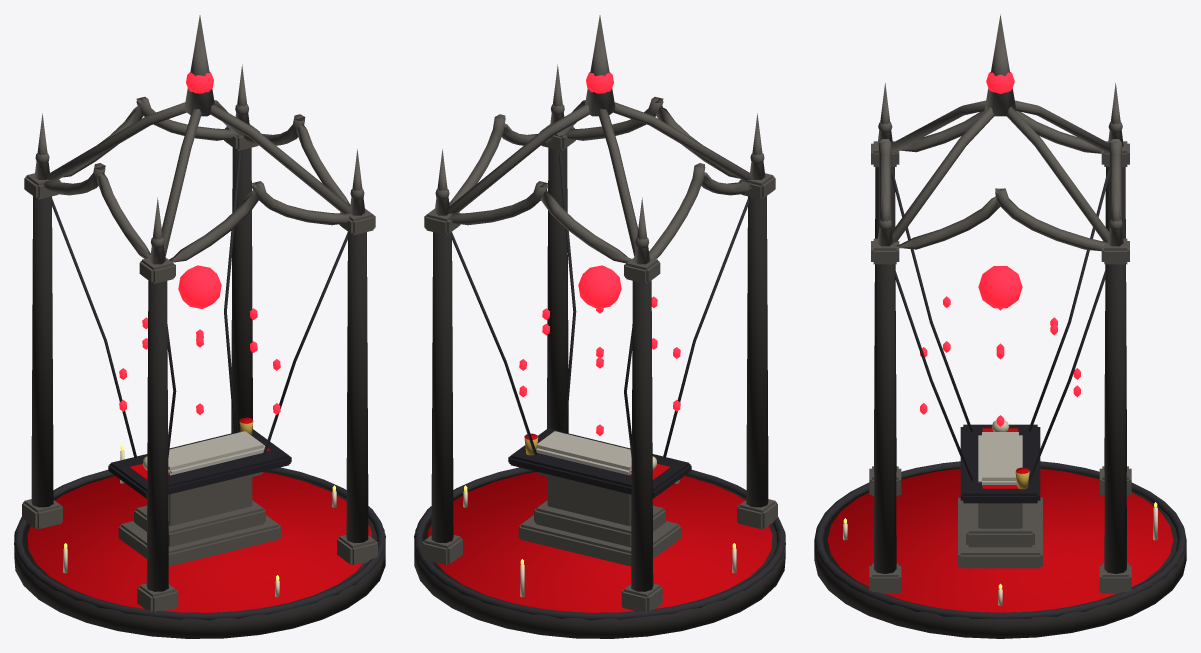
File: gothic-altar.glb
The picture shows the model from 3 angles, left to right: view 1: azimuth 30°, elevation 25°; view 2: azimuth 150°, elevation 25°; view 3: azimuth 270°, elevation 25°; orthographic projection.
Parts seen in each view (by area): view 1: Model Mesh; view 2: Model Mesh; view 3: Model Mesh.
Part boxes in pixels (<box>): Model Mesh: <box>14,15,385,638</box>; Model Mesh: <box>414,15,785,638</box>; Model Mesh: <box>814,14,1186,638</box>.
Size of the model in its own units: 4.2 by 6.8 by 4.2.
